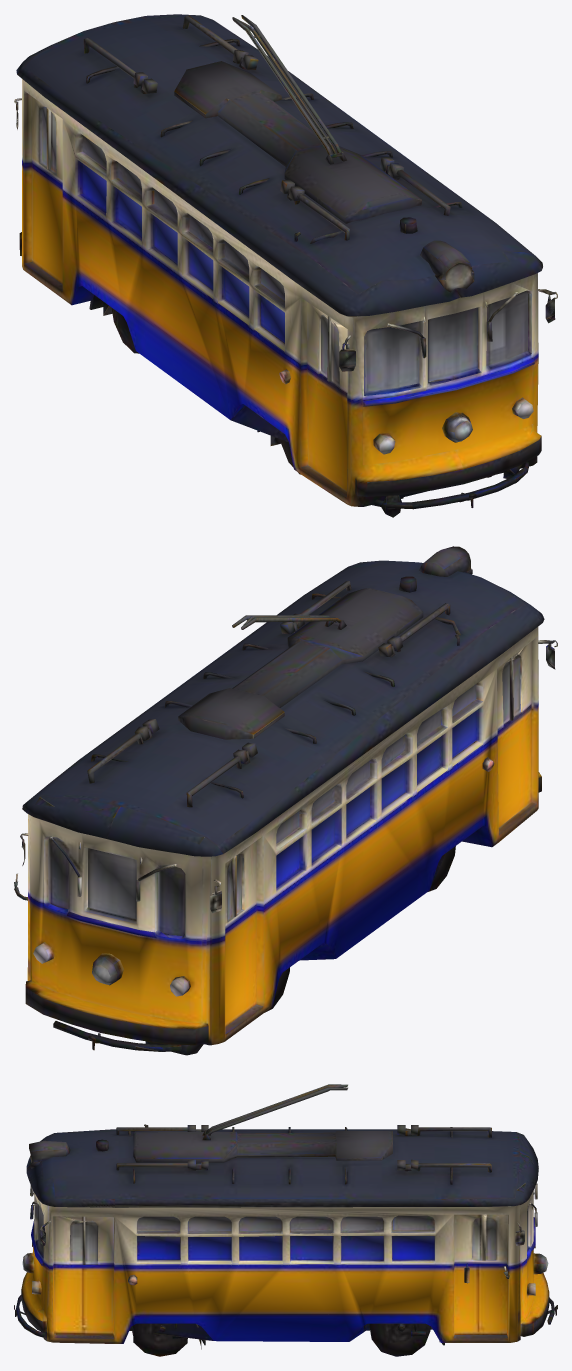
The model's file is alex_tram.glb.
3 renders of one model, top to bottom at view 1: azimuth 30°, elevation 25°; view 2: azimuth 150°, elevation 25°; view 3: azimuth 270°, elevation 25°, orthographic. The views are drawn at different scales.
Parts seen in each view (by area): view 1: tripo_node_ae52a005-1613-41ac-9a26-ff409560c6dd; view 2: tripo_node_ae52a005-1613-41ac-9a26-ff409560c6dd; view 3: tripo_node_ae52a005-1613-41ac-9a26-ff409560c6dd.
Boxes of the visible parts, bbox=[...] form: tripo_node_ae52a005-1613-41ac-9a26-ff409560c6dd: bbox=[14, 14, 557, 517]; tripo_node_ae52a005-1613-41ac-9a26-ff409560c6dd: bbox=[14, 546, 557, 1055]; tripo_node_ae52a005-1613-41ac-9a26-ff409560c6dd: bbox=[14, 1084, 557, 1356].
Bounding box in the file's own units: 0.3379 × 0.498 × 0.998.
Materials: 1 (1 with a texture image).
